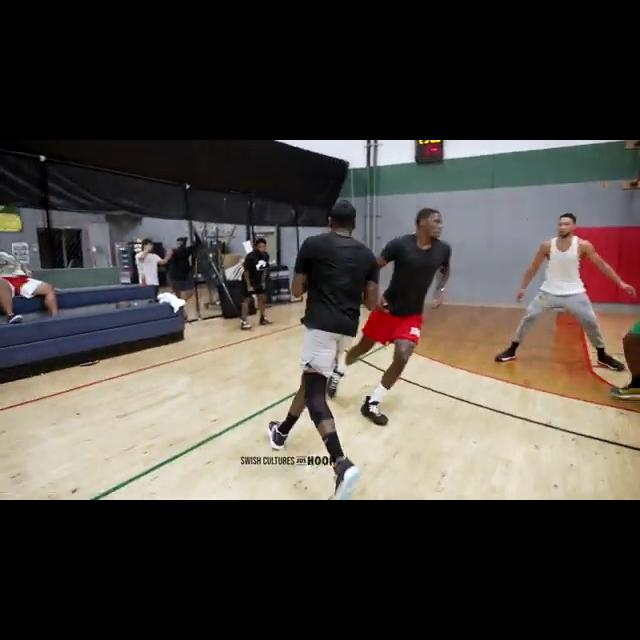person: (266, 199, 377, 500), (328, 206, 457, 422), (493, 213, 629, 376), (0, 243, 83, 326), (234, 237, 274, 334), (167, 236, 202, 316), (132, 238, 166, 296)
